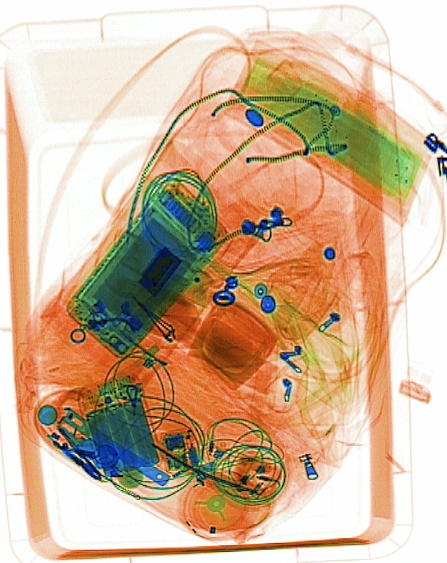powerbank: (74, 371, 165, 481)
